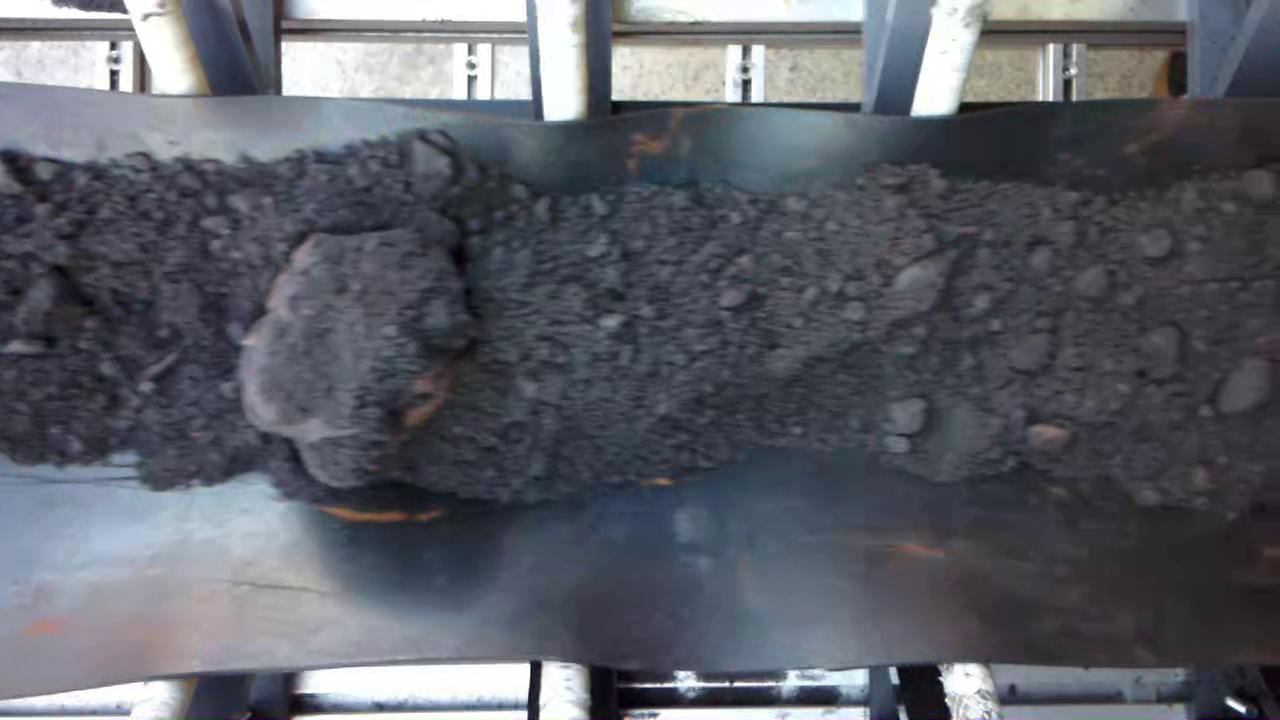conveyor: (0, 111, 1280, 663)
